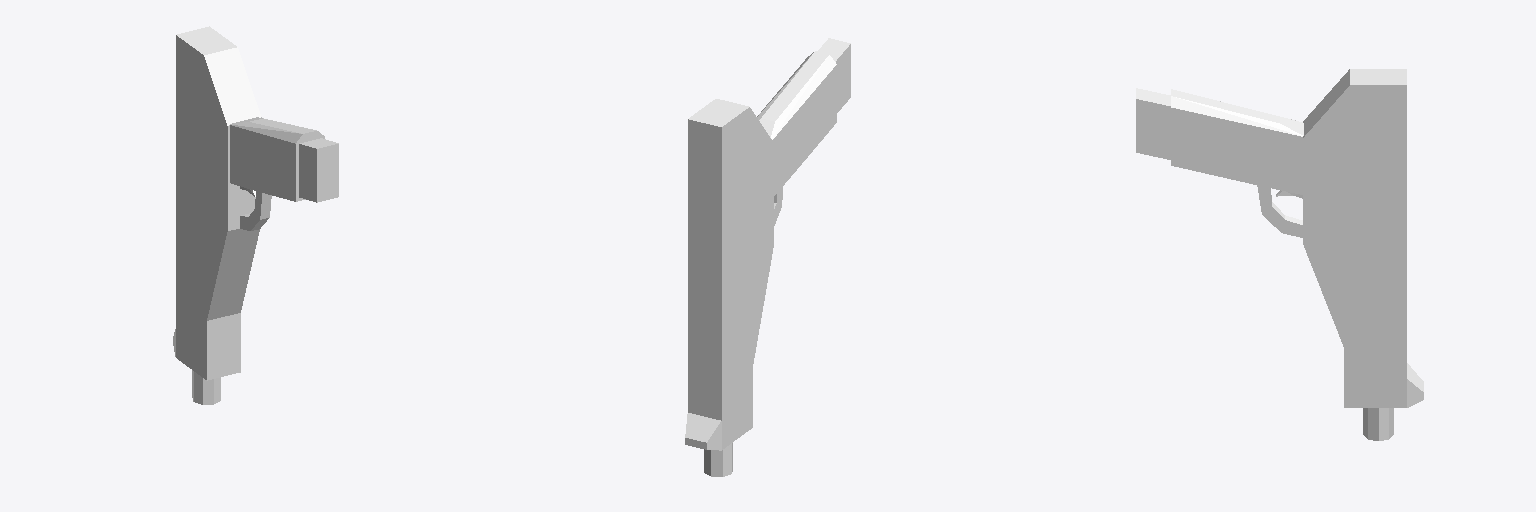
Rendered from pistol.obj.
The picture shows the model from 3 angles: view 1: azimuth 30°, elevation 25°; view 2: azimuth 150°, elevation 25°; view 3: azimuth 270°, elevation 25°; orthographic projection.
Visible parts, largest first — view 1: cube1; view 2: cube1; view 3: cube1.
Boxes of the visible parts, box(x1,y1,x2,y2) form: cube1: box(173, 26, 338, 404); cube1: box(685, 38, 850, 476); cube1: box(1136, 69, 1423, 440).
Bounding box in the file's own units: 0.7067 × 7.12 × 5.19.